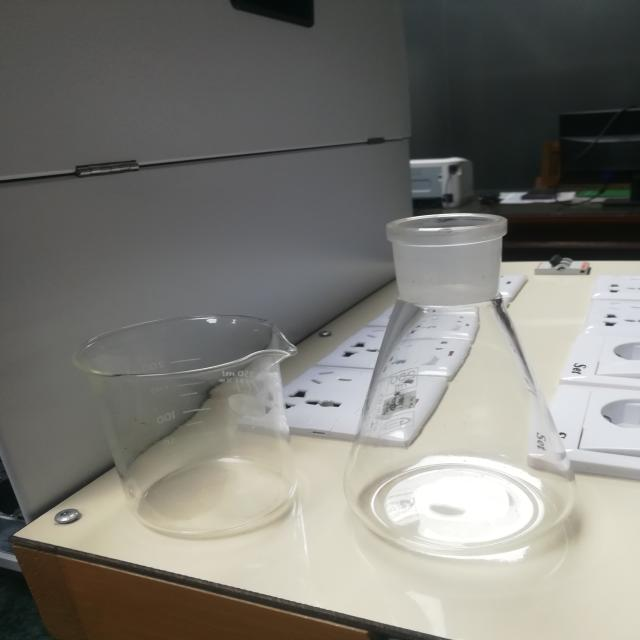Beaker: (58, 279, 322, 562)
Conical_Flask: (336, 166, 591, 572)
